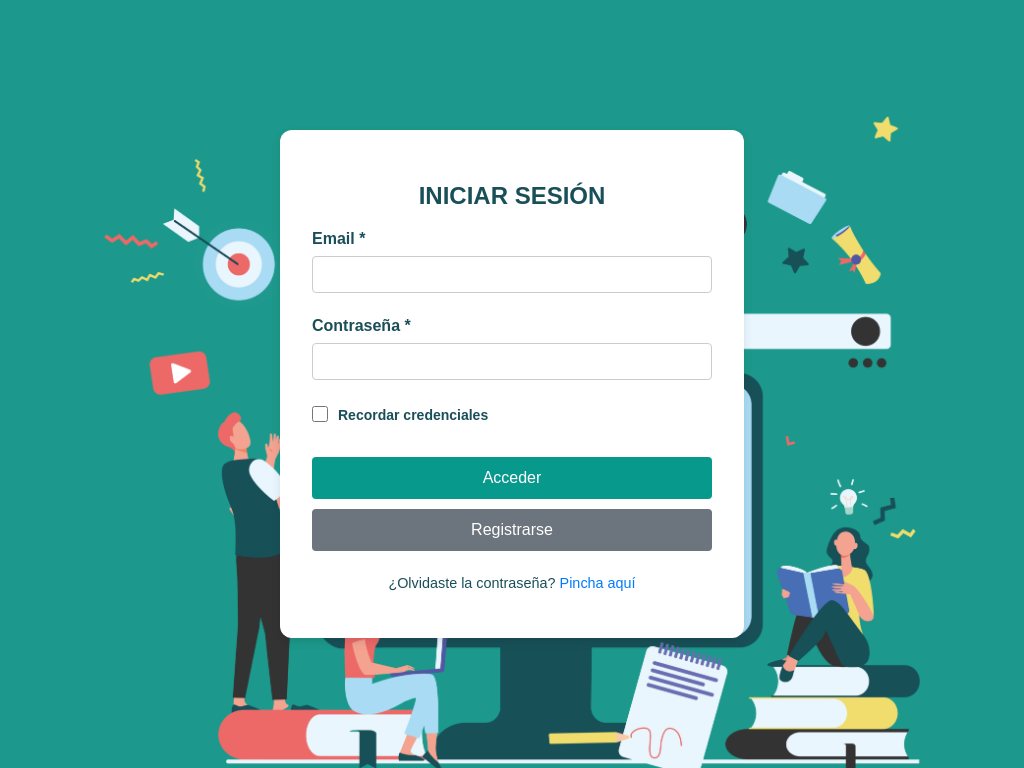
Test: Módulo de Autenticación › Debe mostrar error con credenciales incorrectas
Type "test@test.com" into the field at (512, 275), box top-left (312, 256), bottom-right (712, 293)
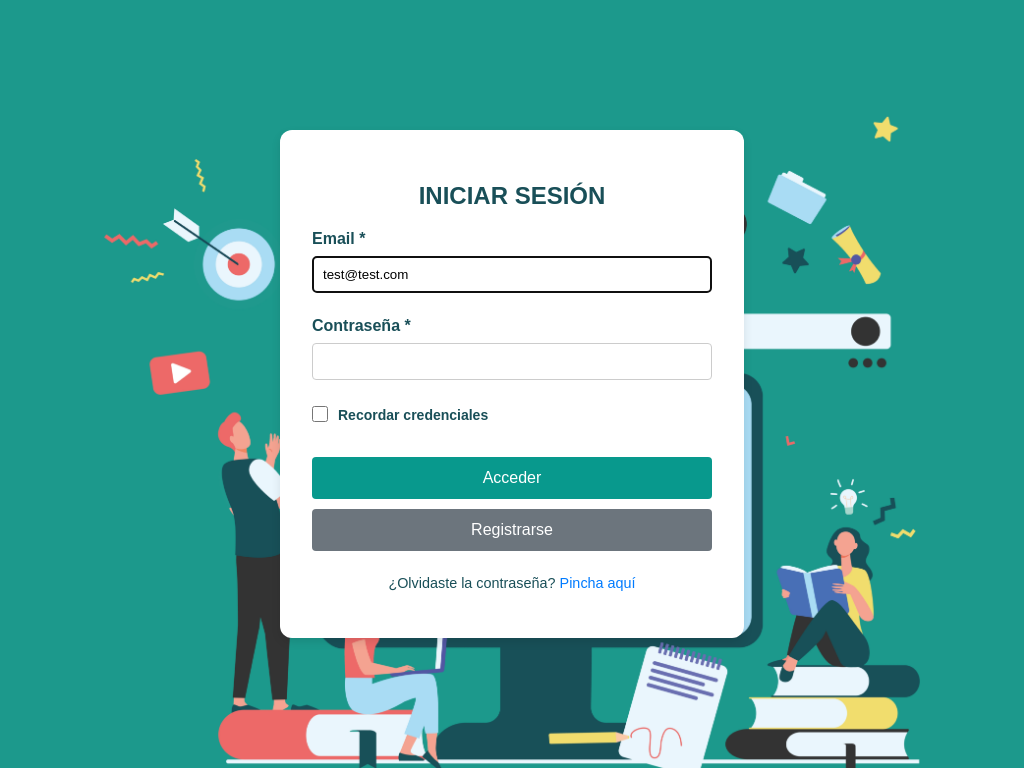
Type "password_erronea" into the password field at (512, 362), box top-left (312, 343), bottom-right (712, 380)
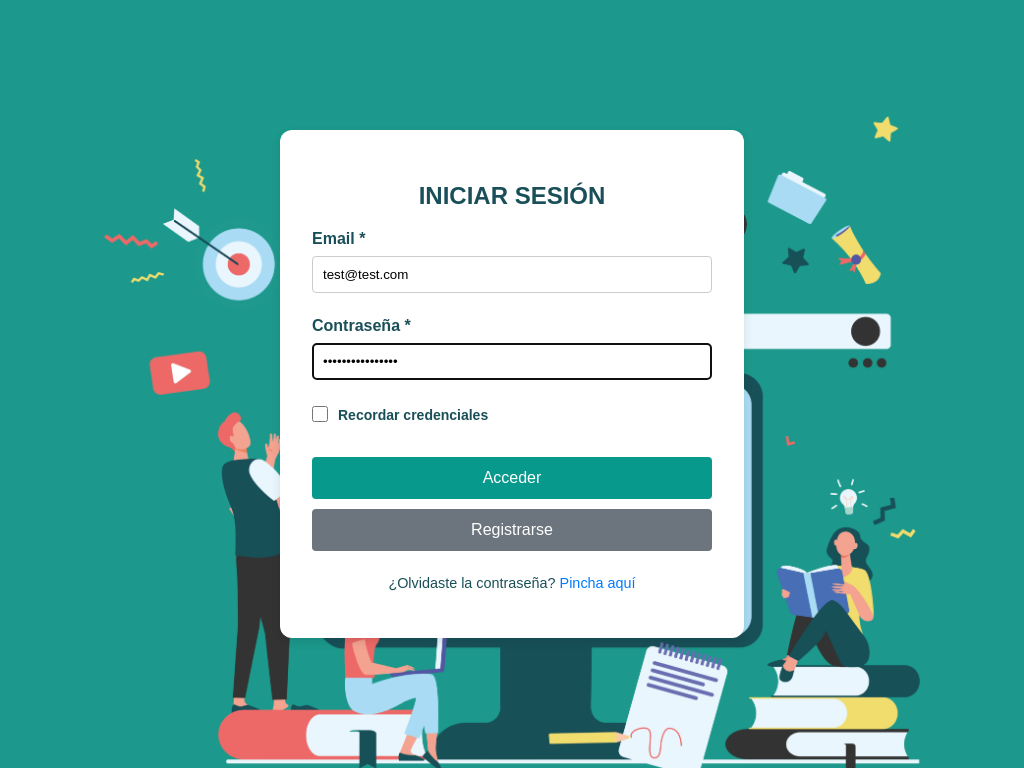
Click the button with class "btn-access" at (512, 478), box top-left (312, 457), bottom-right (712, 499)
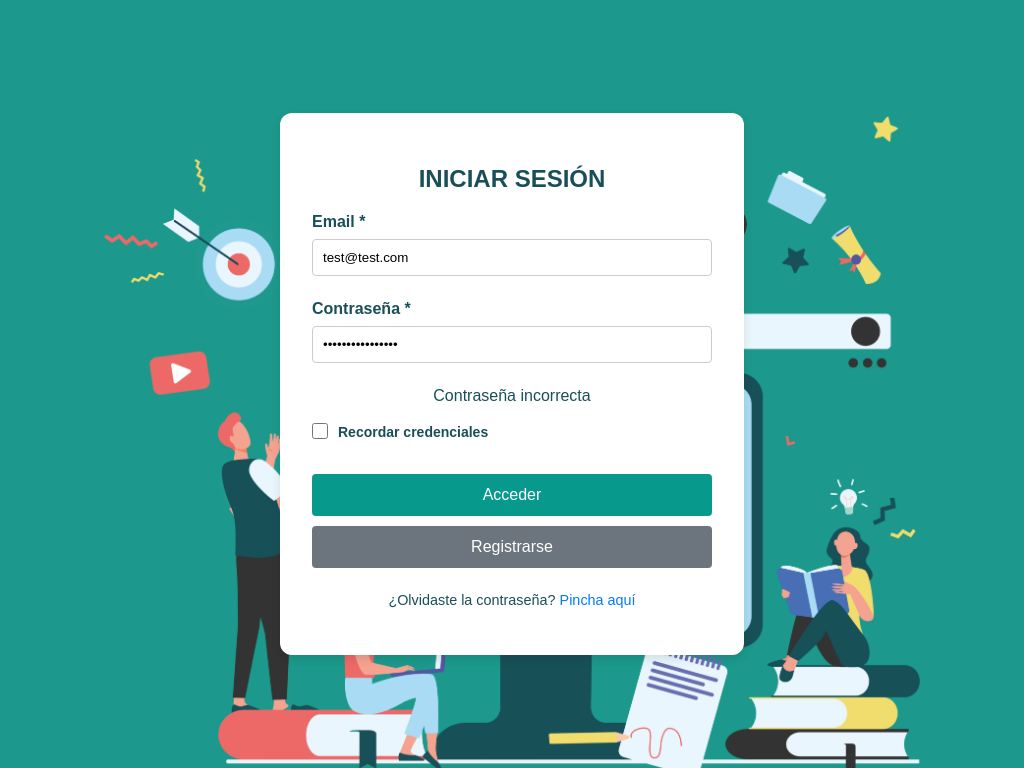
Now the text "Contraseña incorrecta" is shown, box top-left (433, 387), bottom-right (591, 404)
